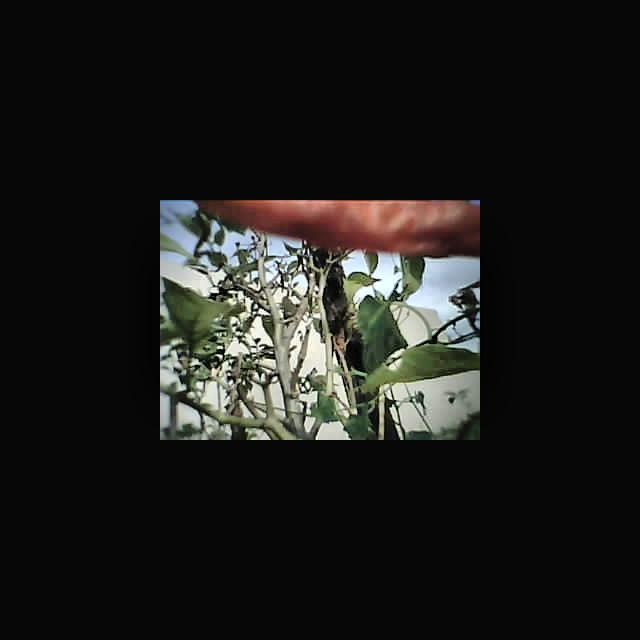Cabai: (203, 200, 480, 260)
